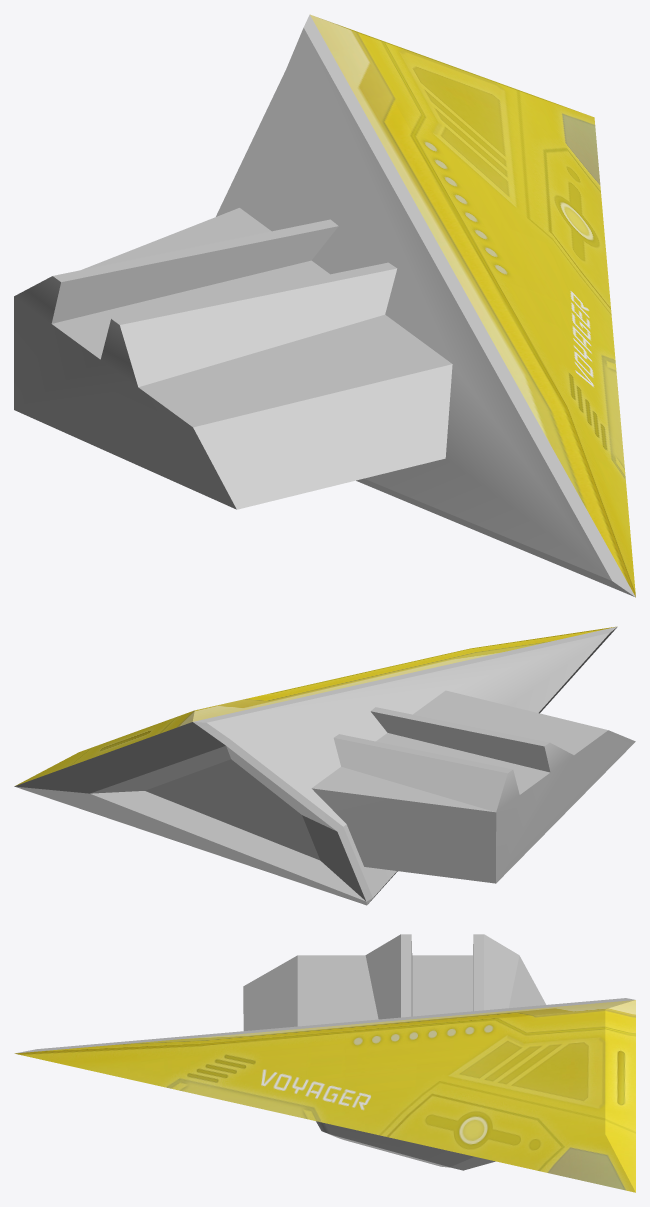
File: Left_side.fbx
The picture shows the model from 3 angles, top to bottom: view 1: azimuth 30°, elevation 25°; view 2: azimuth 150°, elevation 25°; view 3: azimuth 270°, elevation 25°; orthographic projection. The views are drawn at different scales.
Visible parts, largest first — view 1: Left_Side; view 2: Left_Side; view 3: Left_Side.
Part boxes in pixels (x1=…): Left_Side: x1=14, y1=14, x2=635, y2=597; Left_Side: x1=14, y1=626, x2=635, y2=905; Left_Side: x1=14, y1=934, x2=635, y2=1192.
Size of the model in its own units: 0.6711 by 0.2704 by 0.8655.
